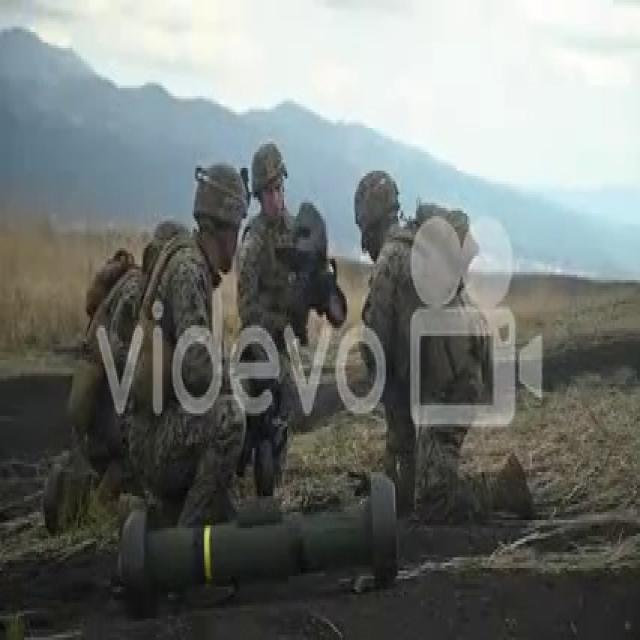bazooka: (118, 459, 406, 618)
